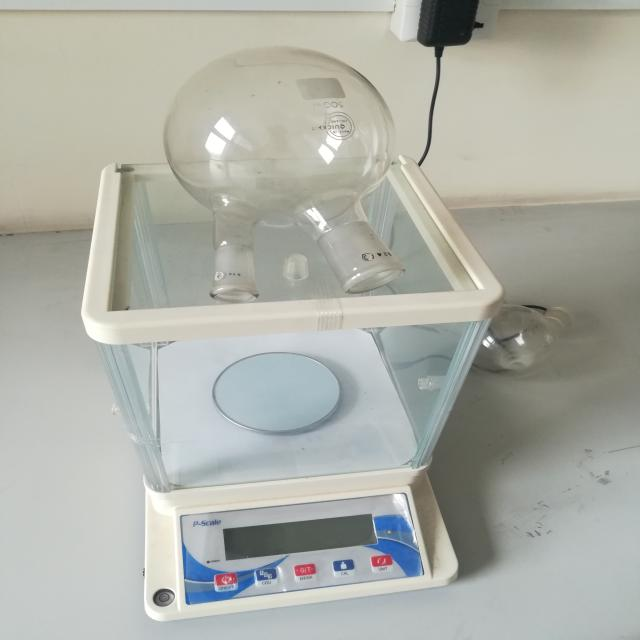Round_Bottom_Flask_Borosilicate_Glass_2_Neck: (146, 29, 462, 320)
